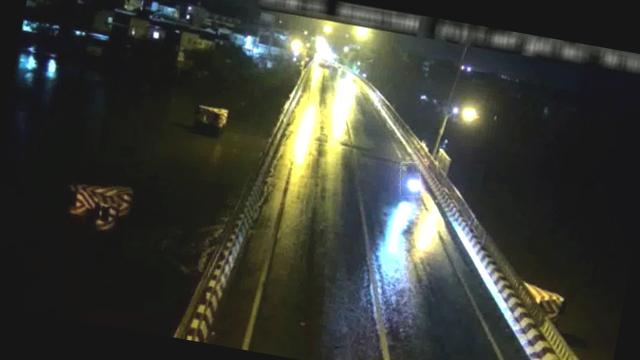Bike: (395, 160, 424, 197)
